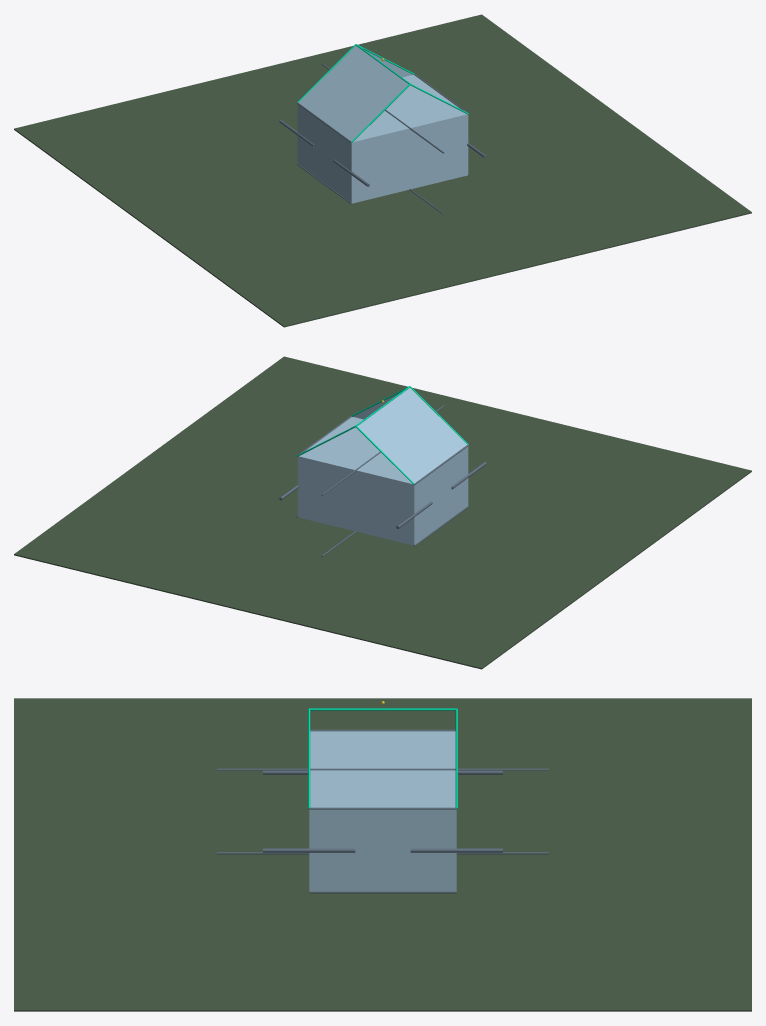
File: greenhouse_model.glb
3 views of the same model, one above another, from view 1: azimuth 30°, elevation 25°; view 2: azimuth 150°, elevation 25°; view 3: azimuth 270°, elevation 25° (orthographic). The views are drawn at different scales.
Visible parts, largest first — view 1: world; view 2: world; view 3: world.
Boxes of the visible parts, bbox=[...] form: world: bbox=[14, 14, 751, 327]; world: bbox=[14, 356, 751, 669]; world: bbox=[14, 698, 751, 1011].
Bounding box in the file's own units: 20 × 4.63 × 20.
